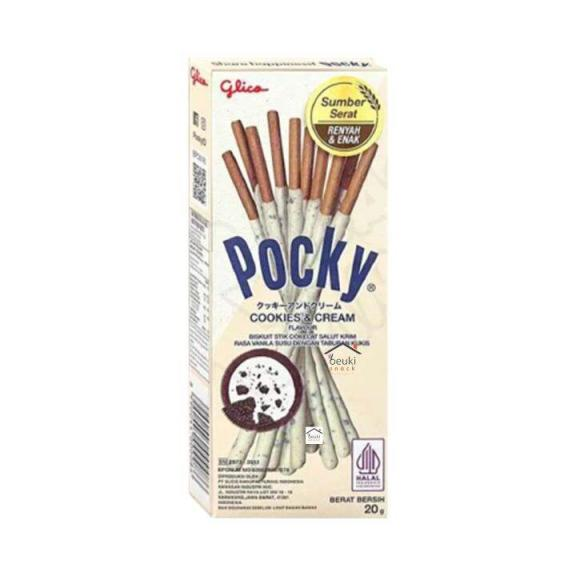Kertas: (191, 58, 388, 518)
